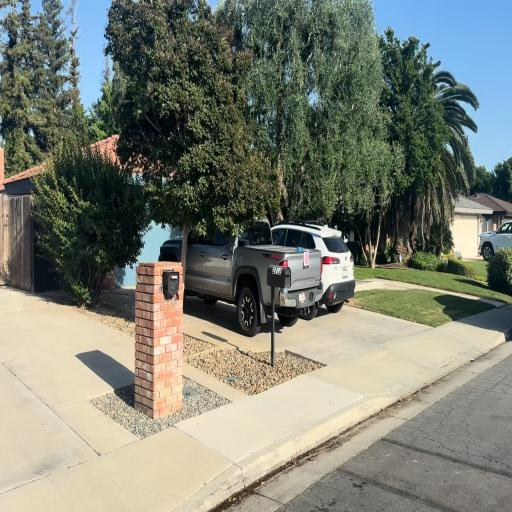bullseye: (304, 252, 309, 266)
